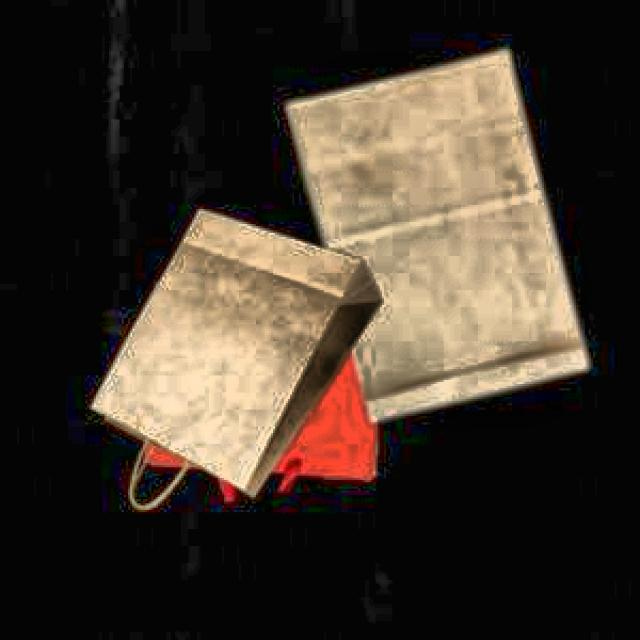Paper-bag: (255, 46, 619, 475), (99, 177, 370, 496), (142, 223, 404, 524)
